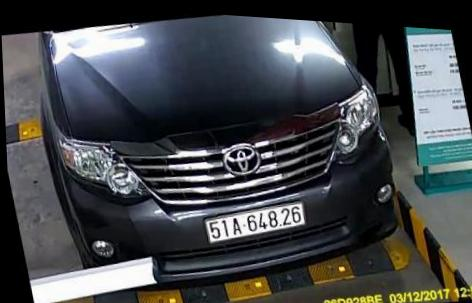License_Plate: (187, 177, 314, 251)
